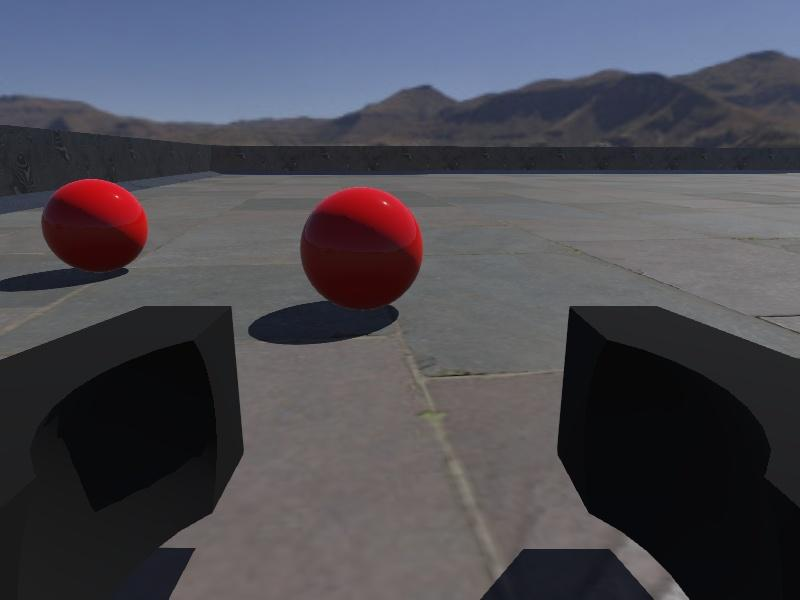red ball: (298, 185, 424, 312), (40, 178, 149, 274)
